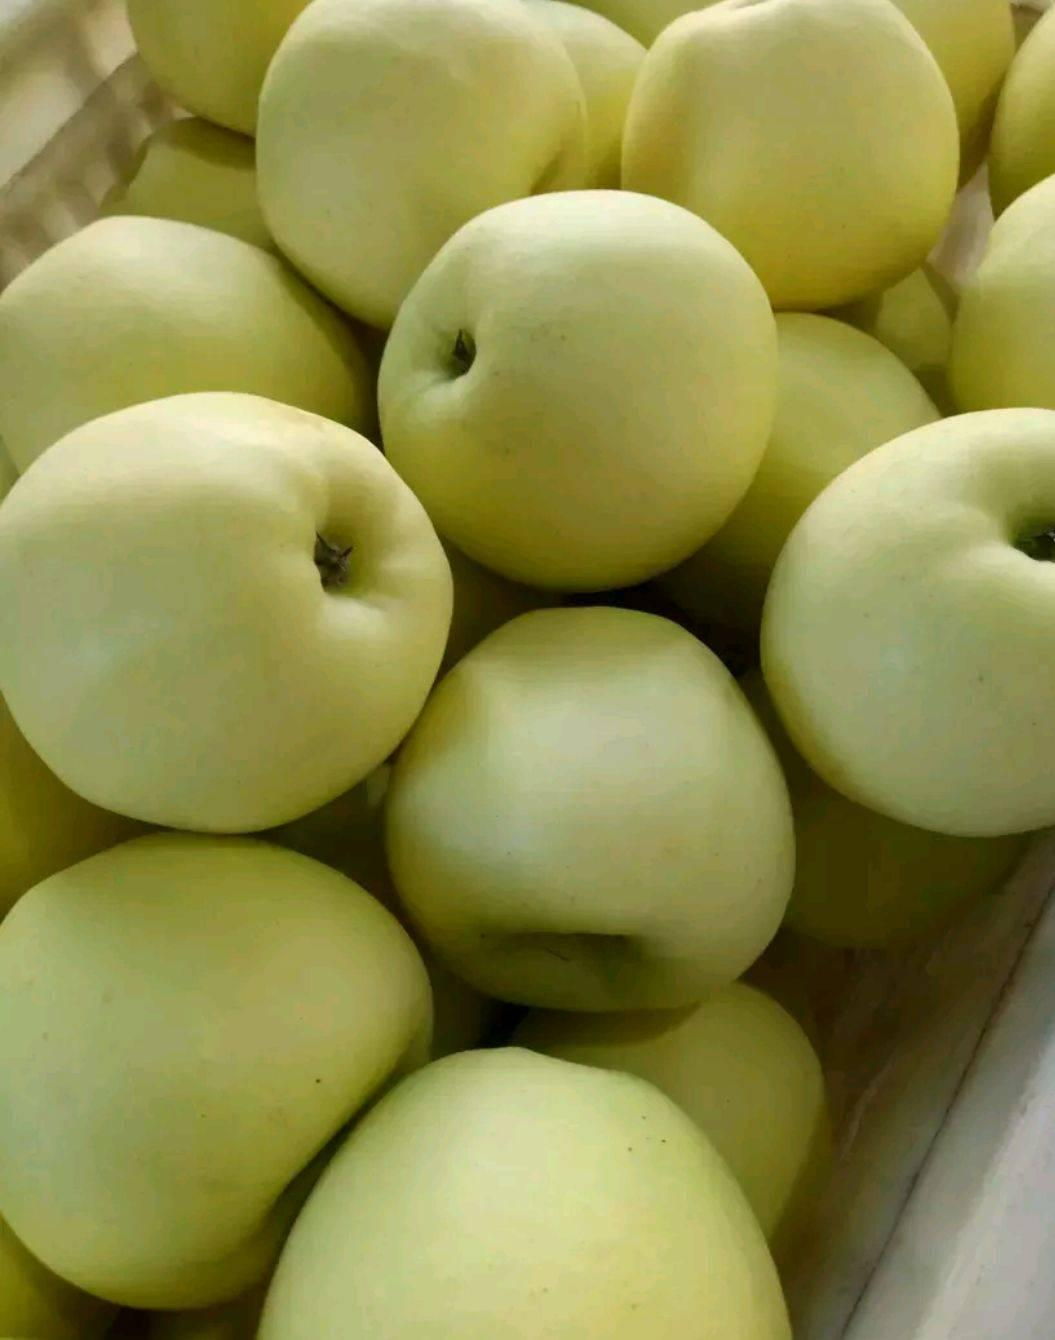apple: (5, 826, 440, 1319), (1, 382, 450, 845), (390, 605, 793, 1018), (258, 1038, 807, 1340), (374, 191, 777, 599), (760, 407, 1048, 837), (251, 1, 608, 332), (613, 2, 961, 317), (1, 212, 375, 500)
